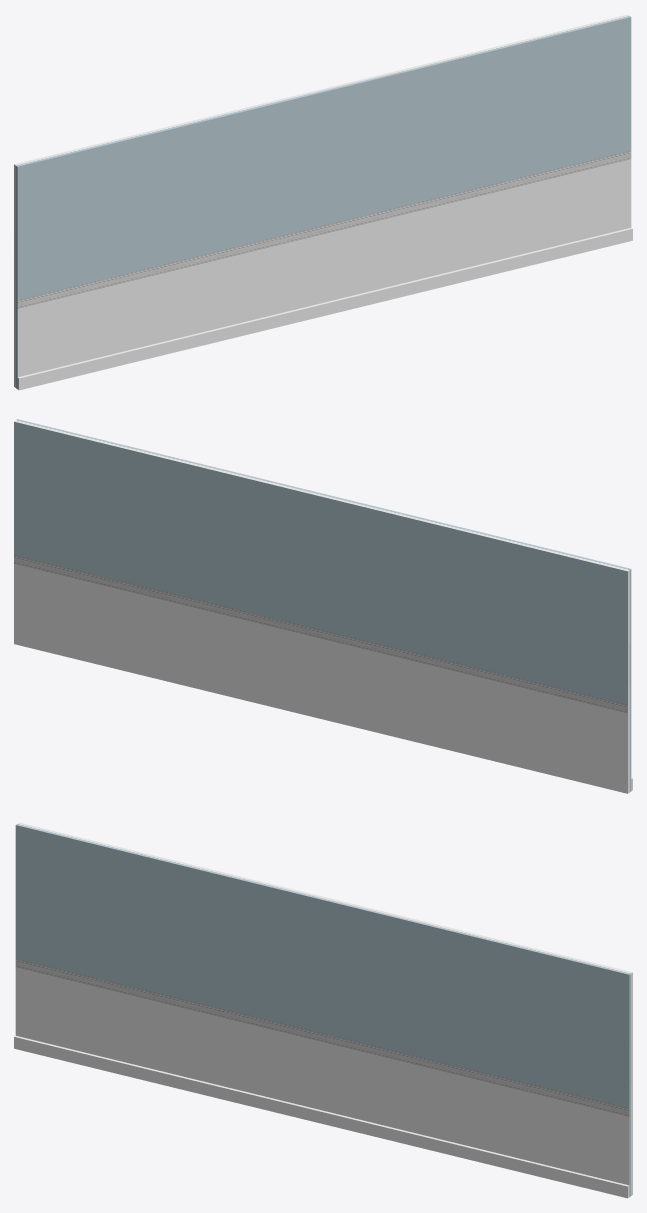
File: Wall 1.FBX
3 views of the same model, one above another, from view 1: azimuth 30°, elevation 25°; view 2: azimuth 150°, elevation 25°; view 3: azimuth 330°, elevation 25° (orthographic).
Visible parts, largest first — view 1: wall 1; view 2: wall 1; view 3: wall 1.
Boxes of the visible parts, box(x1,y1,x2,y2) form: wall 1: box(14, 14, 632, 390); wall 1: box(14, 419, 632, 793); wall 1: box(14, 822, 632, 1198).
Size of the model in its own units: 897 by 311 by 12.86.
2 materials, 1 textured.
